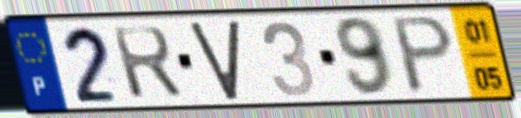2: (56, 20, 126, 108)
3: (260, 19, 315, 98)
9: (331, 14, 400, 99)
P: (389, 12, 457, 97)
R: (108, 23, 187, 102)
V: (186, 17, 242, 103)
